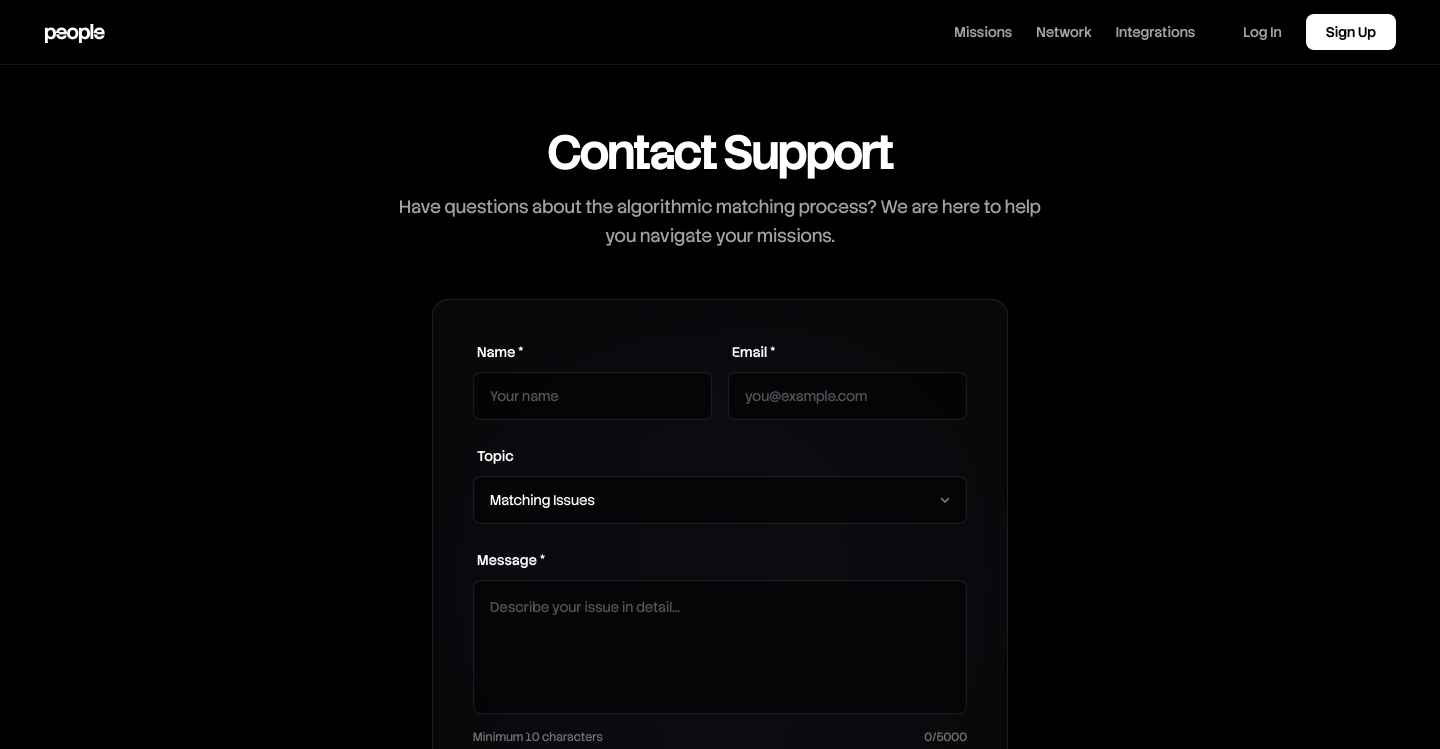
Test: ContactPage › shows field errors returned from backend validation response
The width and height of the screenshot is (1440, 749).
In the field with placeholder "Your name": (592, 396) [473,372,712,420], type "Test User"
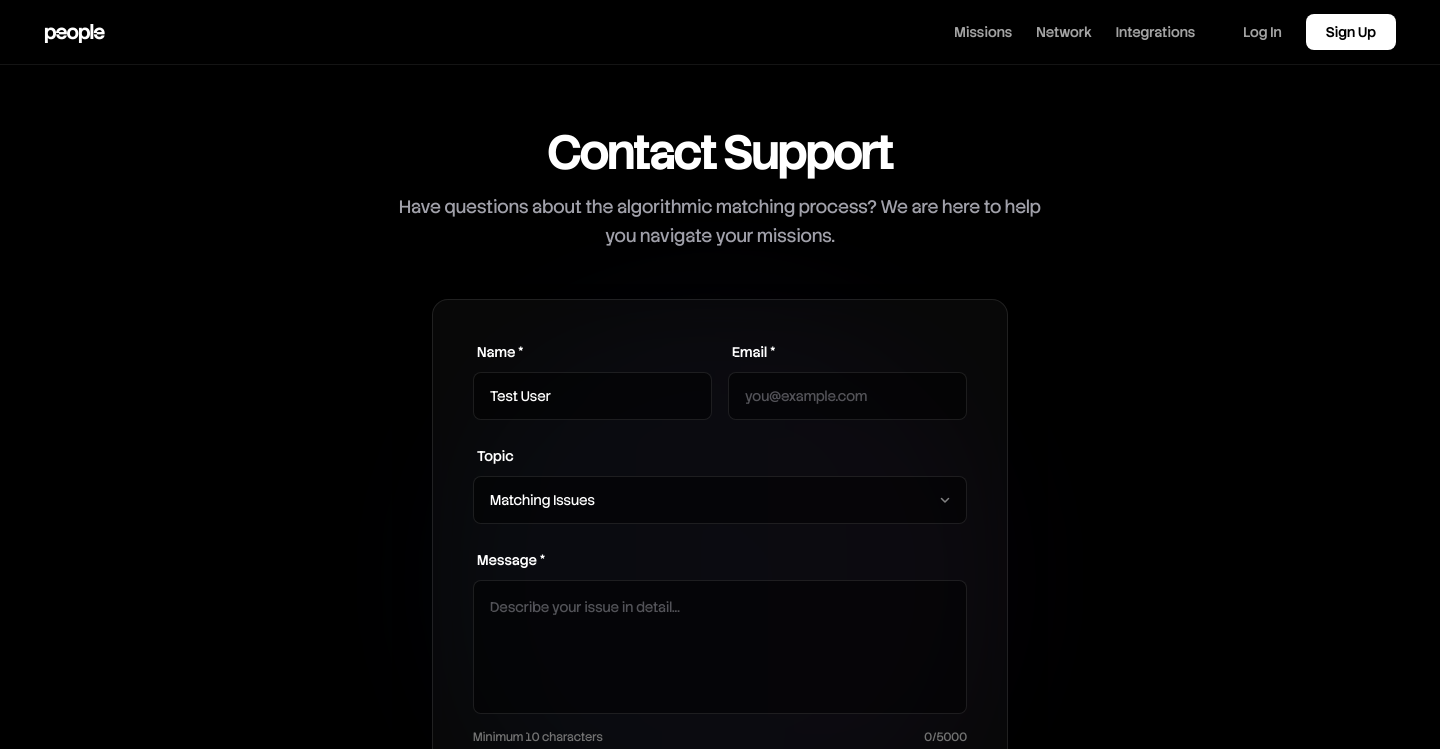
In the field with placeholder "you@example.com": (848, 396) [728,372,967,420], type "test@example.com"
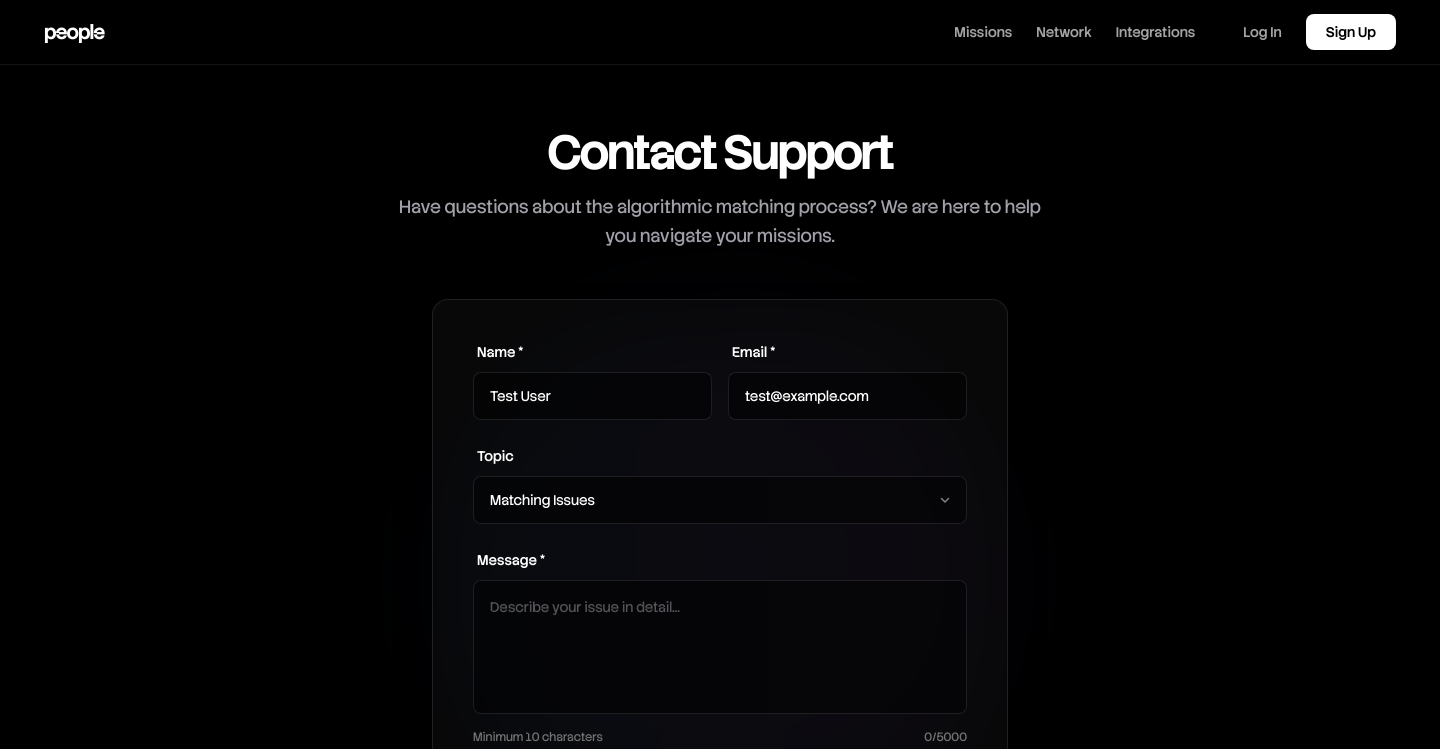
In the text box with placeholder "Describe your issue in detail...": (720, 646) [473,580,967,714], type "This message has enough characters to submit."
(page scrolled)
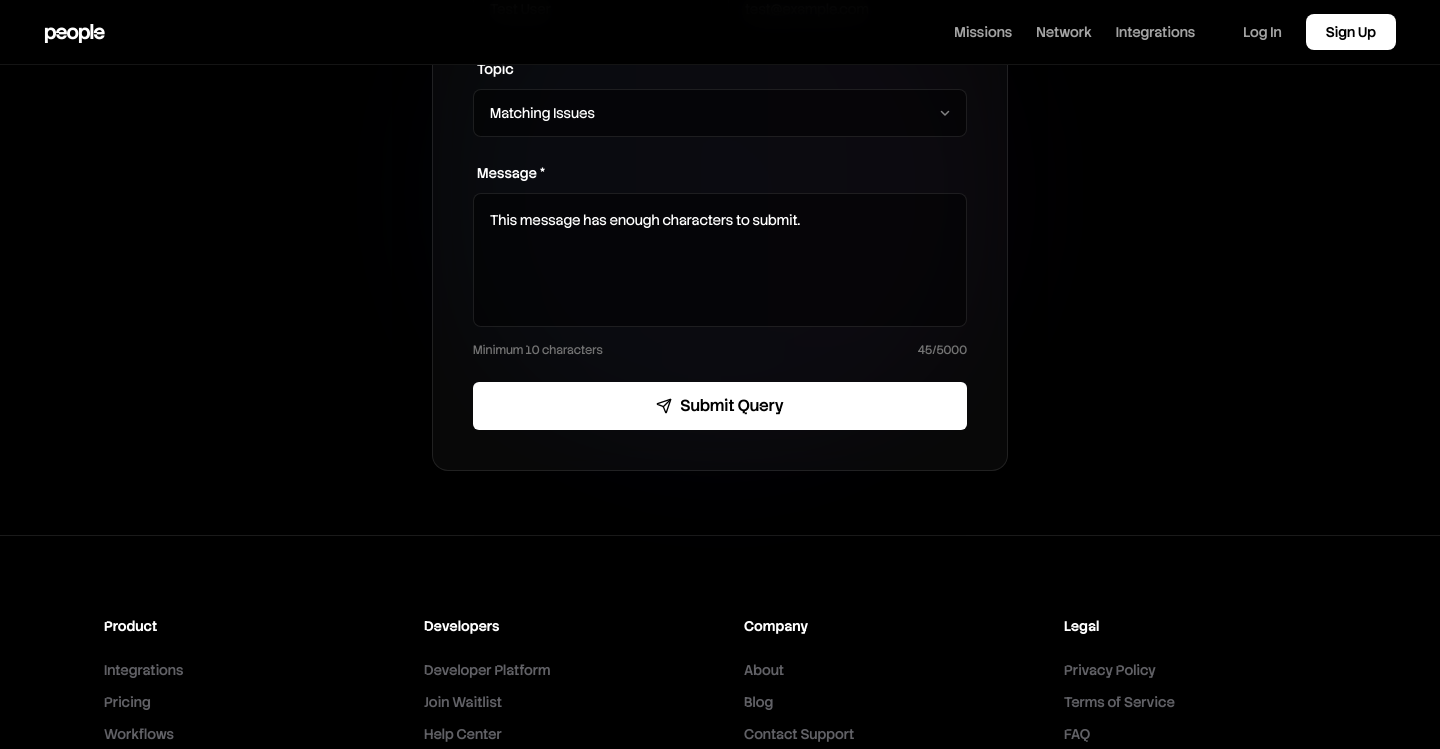
Click the button "Submit Query": (720, 406) [473,382,967,430]
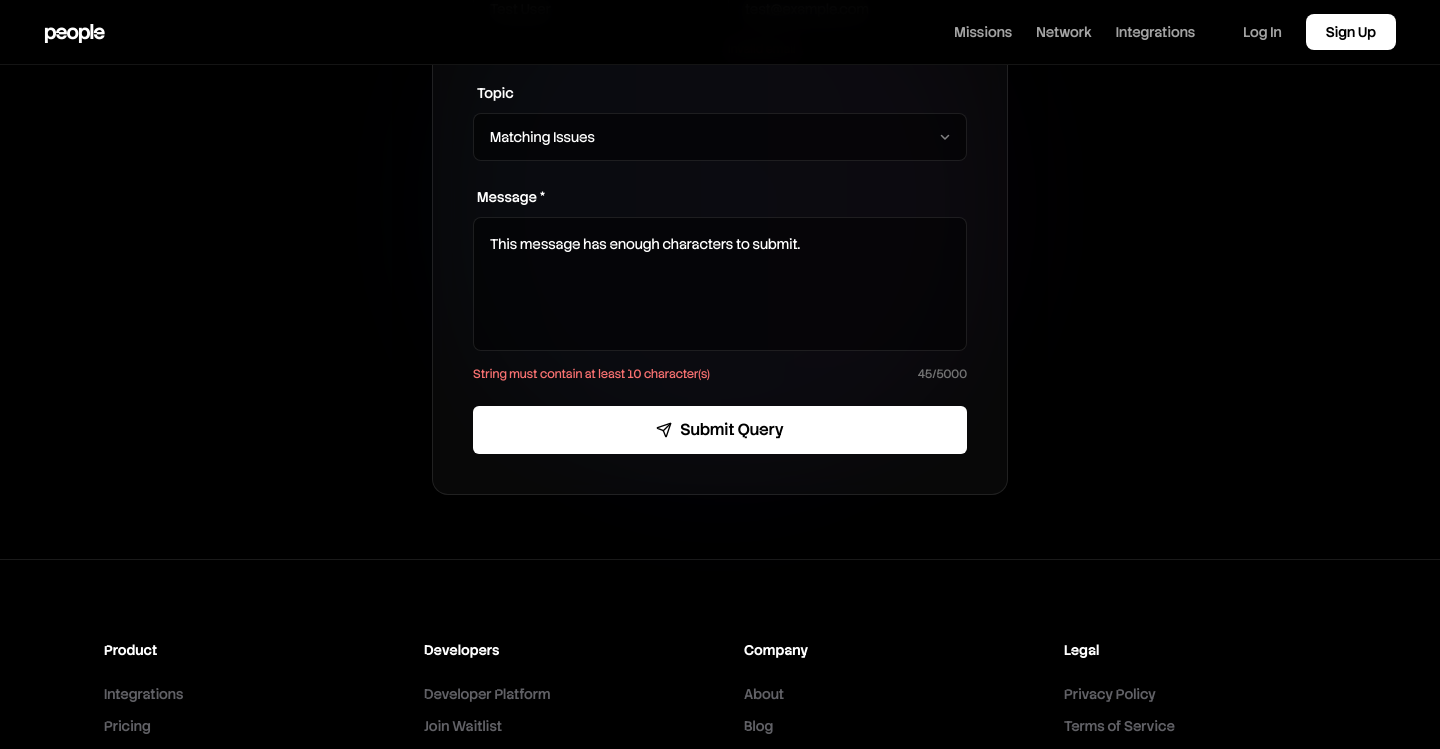
expect the text "String must contain at least 10 character(s)" is shown: met, box [473,366,710,382]
